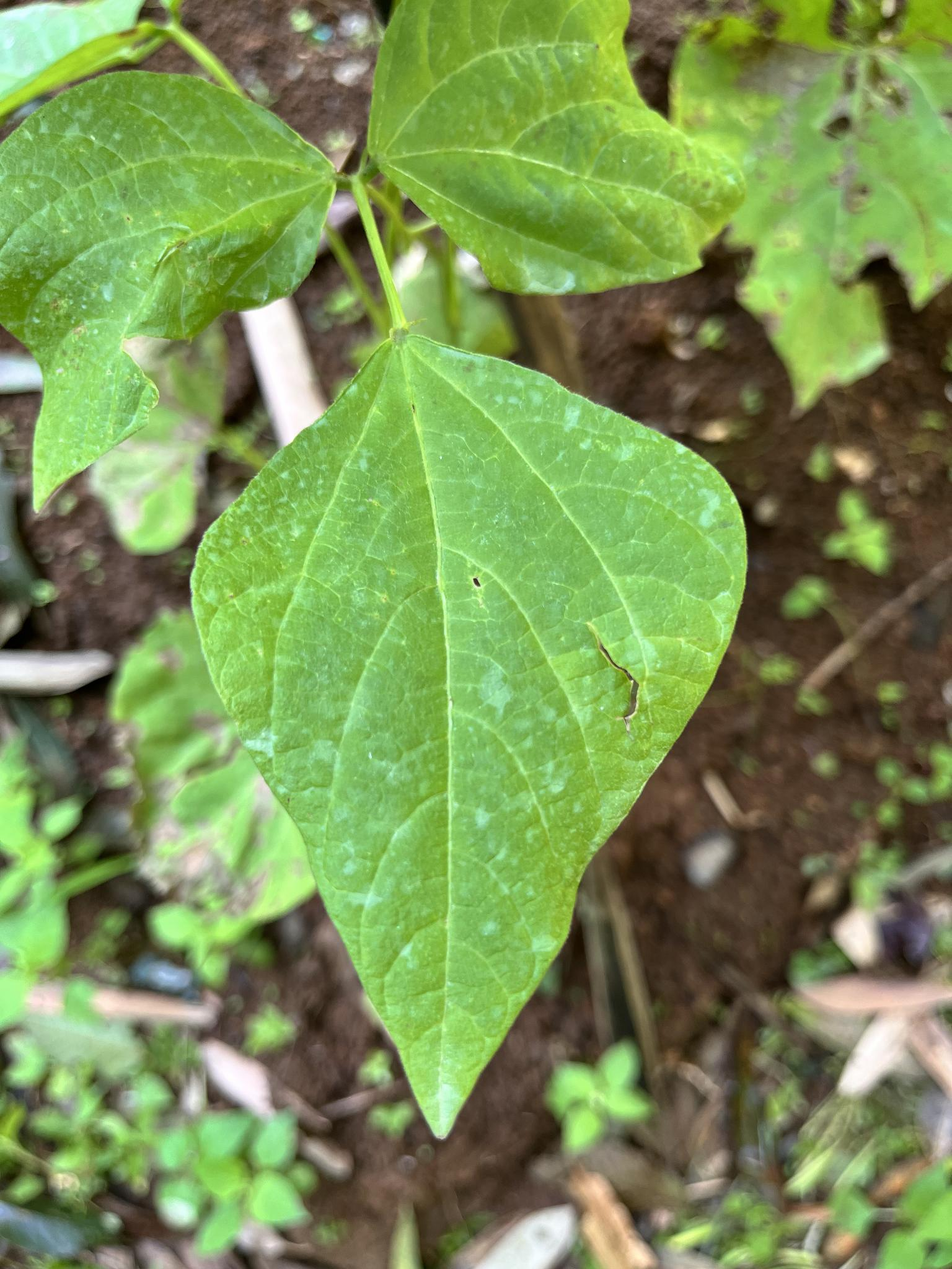embun tepung: (421, 1049, 475, 1144), (230, 711, 291, 780)
